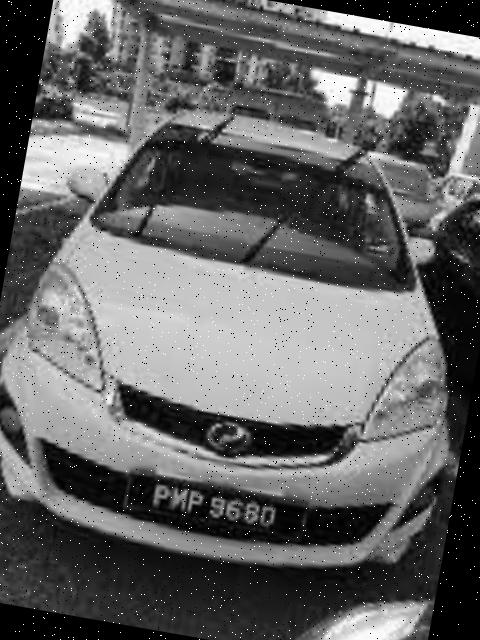License_Plate: (123, 466, 308, 551)
car: (1, 68, 480, 600)
